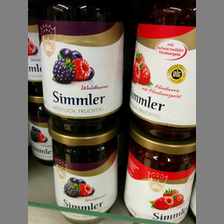jam: (37, 1, 127, 132), (129, 1, 196, 143), (48, 124, 119, 223), (123, 132, 197, 224)
